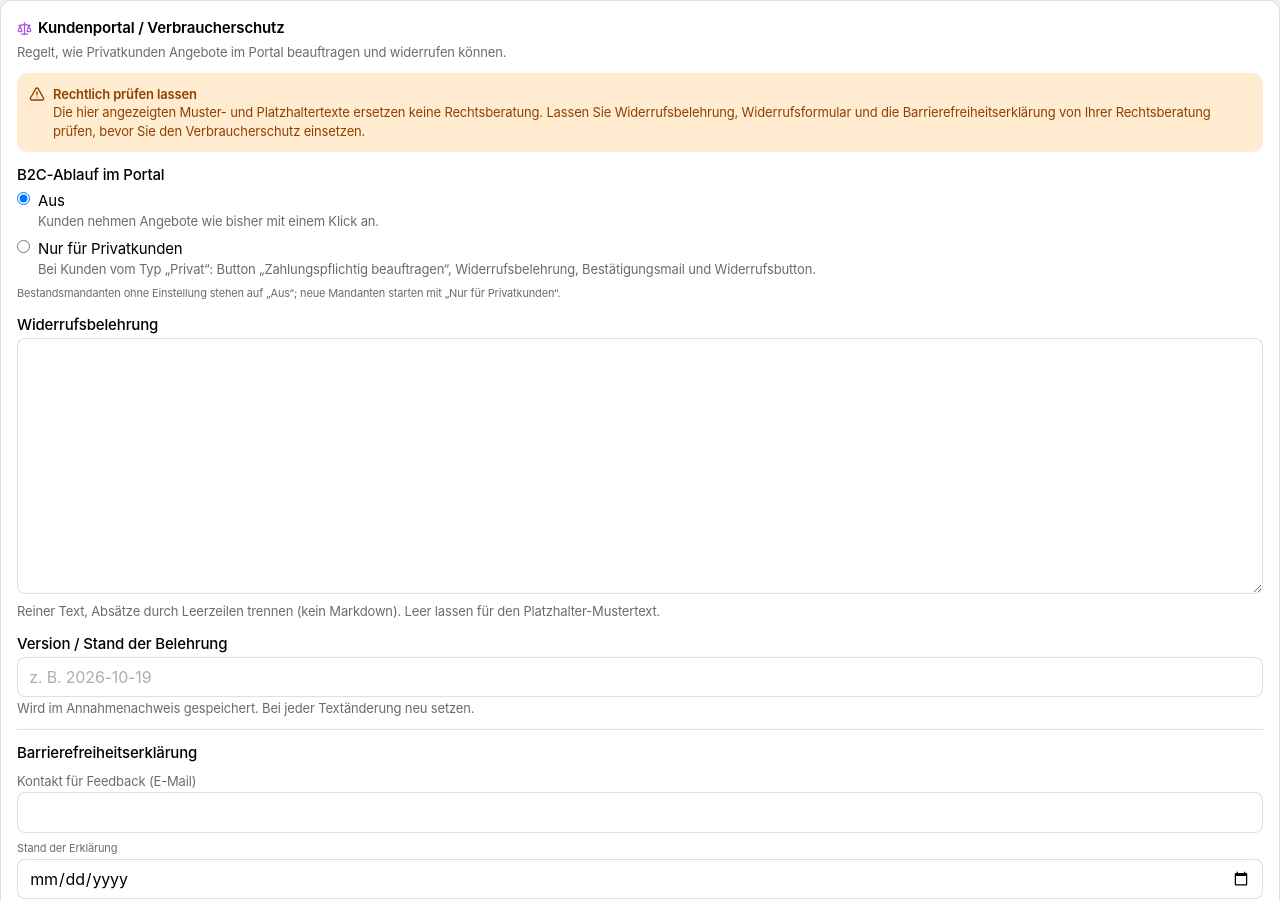
Test case: PortalVerbraucherschutzSection › sperrt Speichern bei ungueltiger Kontakt-E-Mail
Type "keine-mail" into the field labelled "Kontakt für Feedback (E-Mail)" at (640, 813), box x1=17 y1=792 x2=1263 y2=833
(page scrolled)
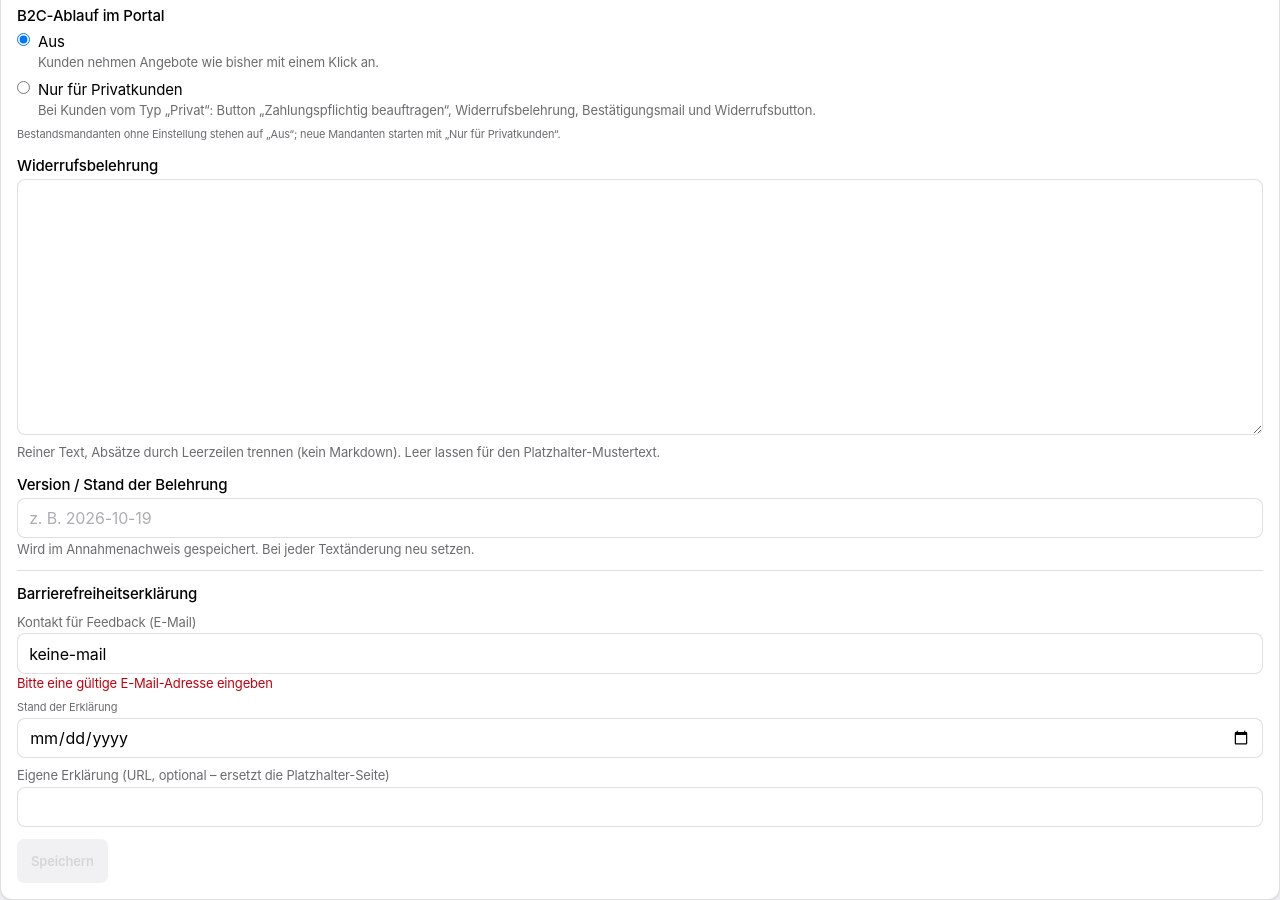
Expected: the button "Speichern" is disabled, x1=17 y1=839 x2=108 y2=883
